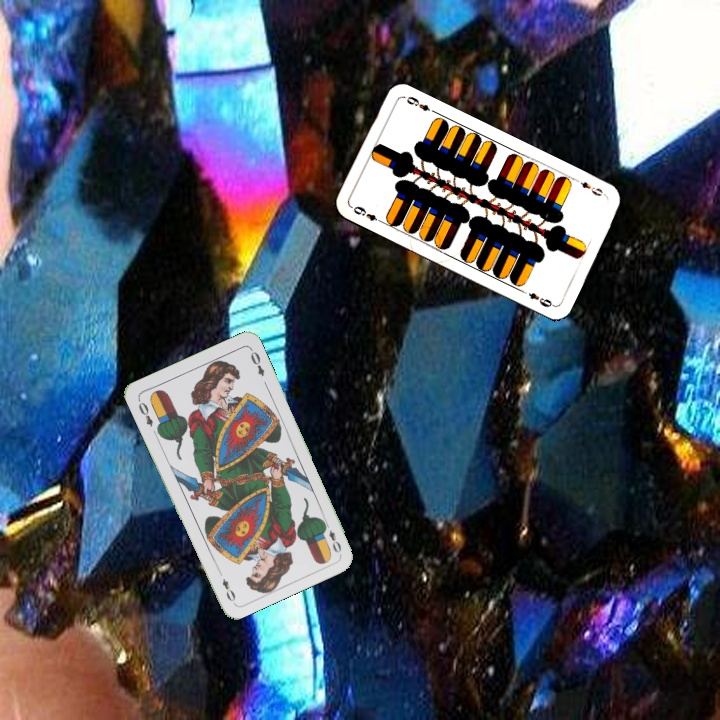E9: (571, 175, 609, 199), (349, 202, 386, 226)
EO: (320, 517, 344, 556), (134, 395, 156, 429)
